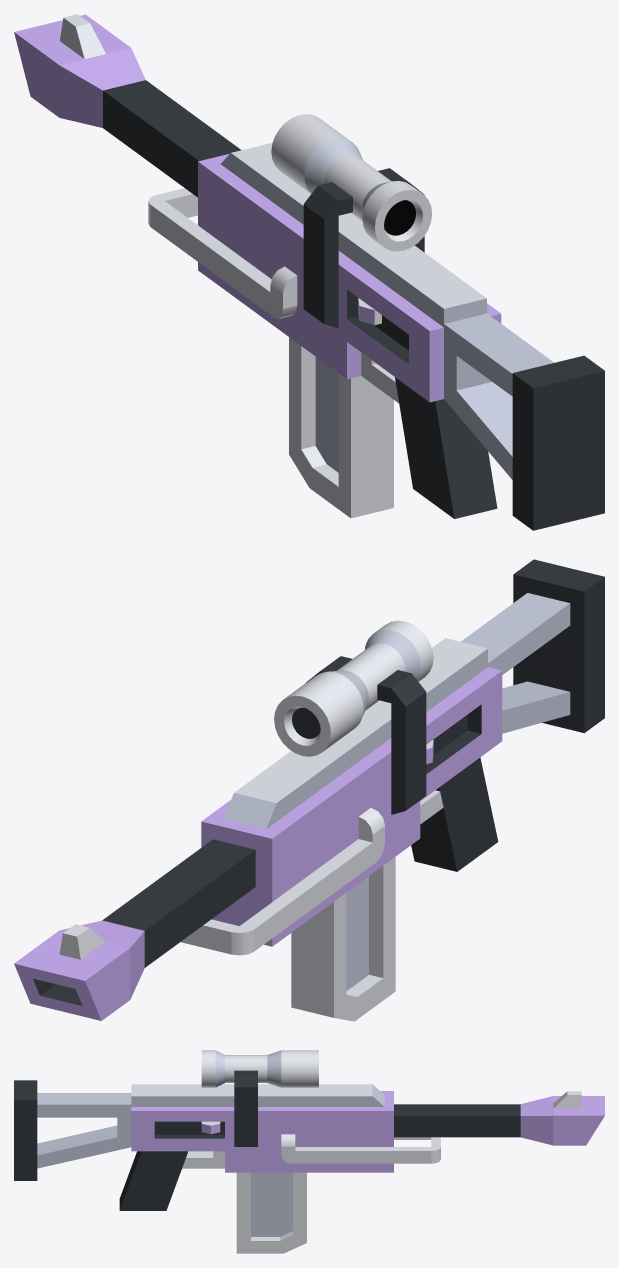
Rendered from BlamShotModel.fbx.
The picture shows the model from 3 angles, top to bottom: view 1: azimuth 30°, elevation 25°; view 2: azimuth 150°, elevation 25°; view 3: azimuth 270°, elevation 25°; orthographic projection. The views are drawn at different scales.
Visible parts, largest first — view 1: BlamShot, Magazine; view 2: BlamShot, Magazine; view 3: BlamShot, Magazine.
Part boxes in pixels (x1,y1,x2,y2): BlamShot: (14, 14, 604, 530); Magazine: (289, 337, 393, 518); BlamShot: (14, 559, 604, 1020); Magazine: (291, 857, 395, 1021); BlamShot: (14, 1050, 604, 1210); Magazine: (236, 1172, 306, 1253).
Size of the model in its own units: 1.4 by 4.6 by 12.6.
